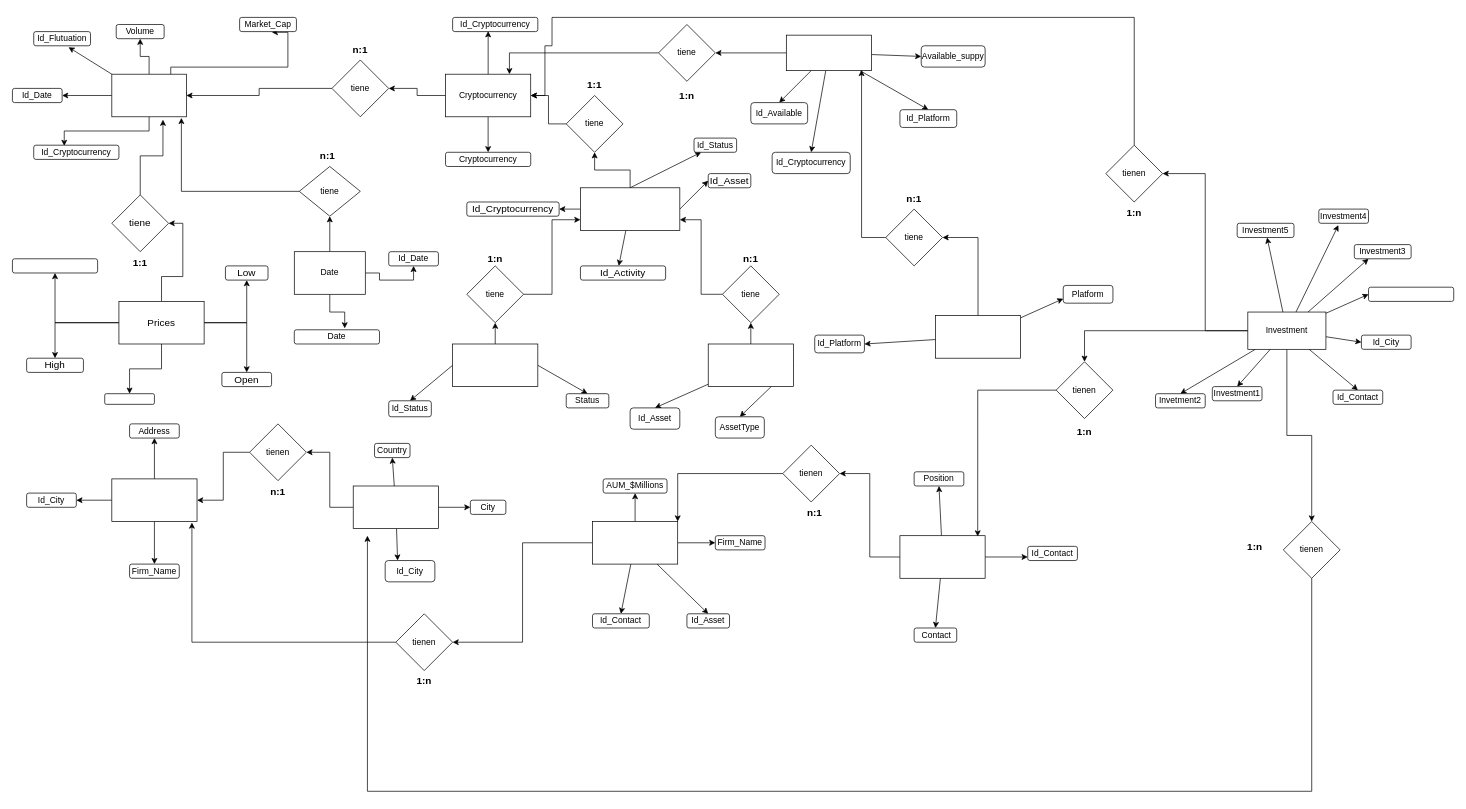
The diagram is 1466 pixels wide and 809 high, and some of its shapes have lost their labels. Here are the shapes that lost their labels. From the top down, the centre of each, then its label:
At point 829,52: "Available Suppy".
At point 148,95: "Market Cap and Volume".
At point 630,208: "Cryptocurrency Activity".
At point 55,265: "Id_Fluctuation".
At point 1411,293: "Id_Investment_Activity".
At point 978,336: "Cryptocurrency Platform".
At point 495,365: "Cryptocurrency Status".
At point 750,365: "Asset Type".
At point 129,398: "Close".
At point 154,499: "Firm Information".
At point 395,507: "City Information".
At point 635,542: "Asset Under Managment".
At point 942,556: "General Contact Information".
